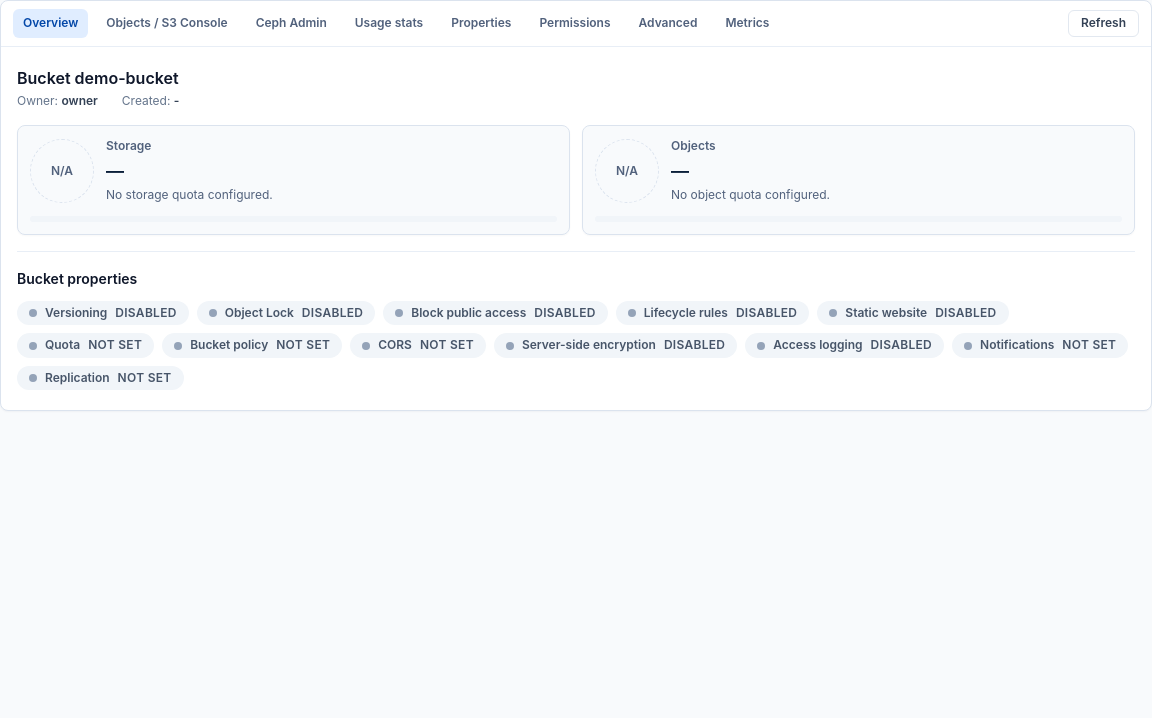
Test: BucketDetailPage replication state › treats replication payload with empty role and no rules as not configured
Expected: the text "Replication" is shown, [45,370,110,386]
Expected: the 1st text "Not set" is shown, [88,337,142,354]
Click the button "Advanced" at (668, 23), box [628,9,707,38]
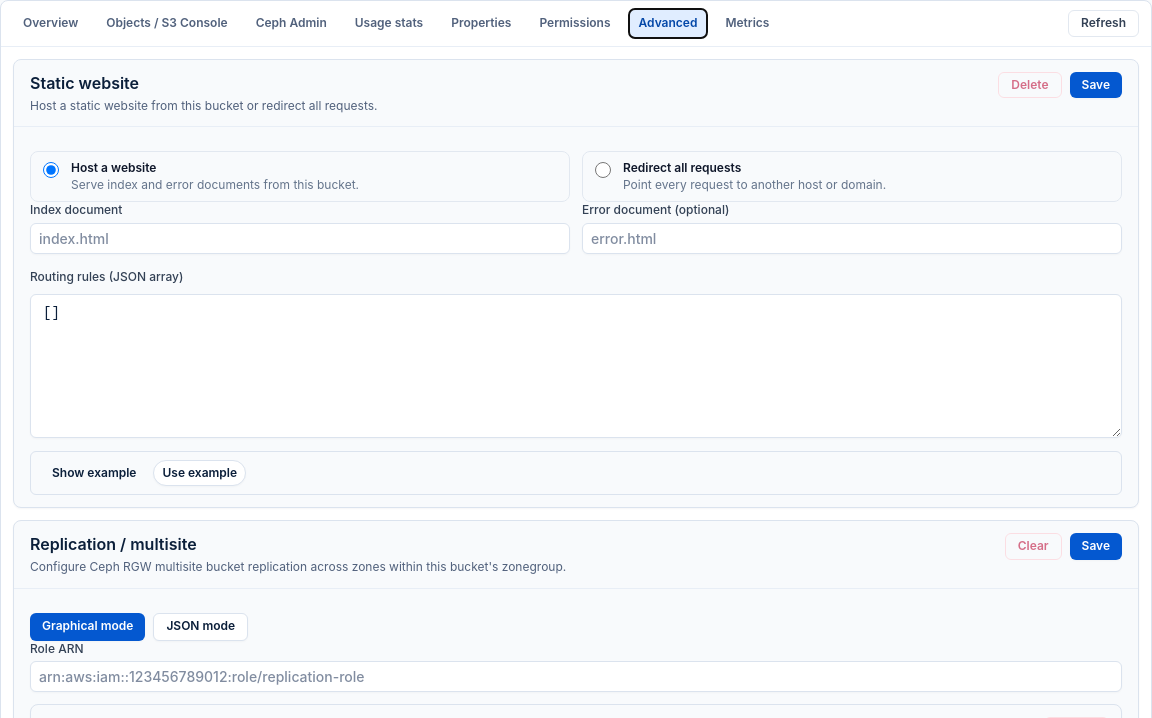
Expected: the text "Configure Ceph RGW multisite bucket replication across zones within this bucket's zonegroup." is shown, [30,559,566,574]
